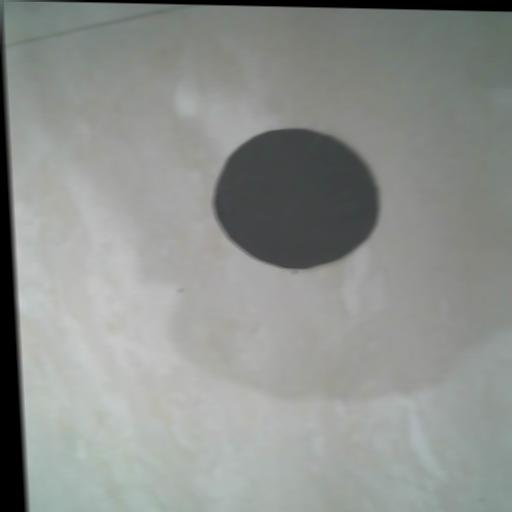pothole: (208, 126, 383, 271)
